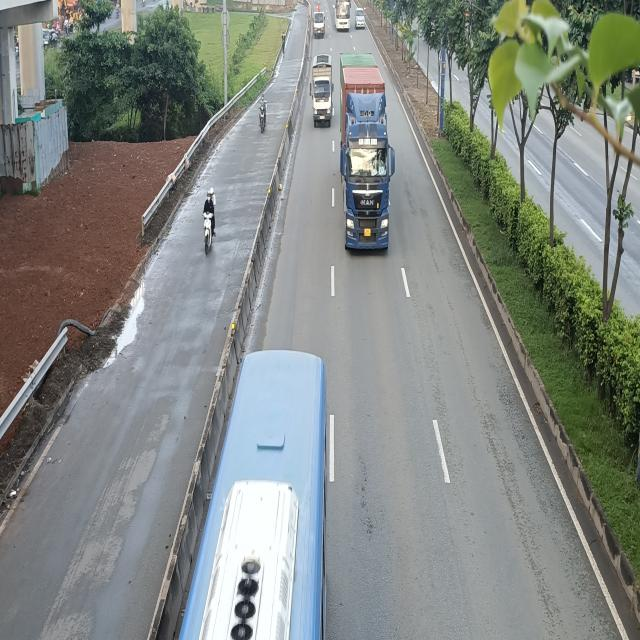coach: (178, 348, 328, 640), (334, 0, 353, 31)
container: (340, 55, 394, 250)
truck: (310, 56, 333, 129)
